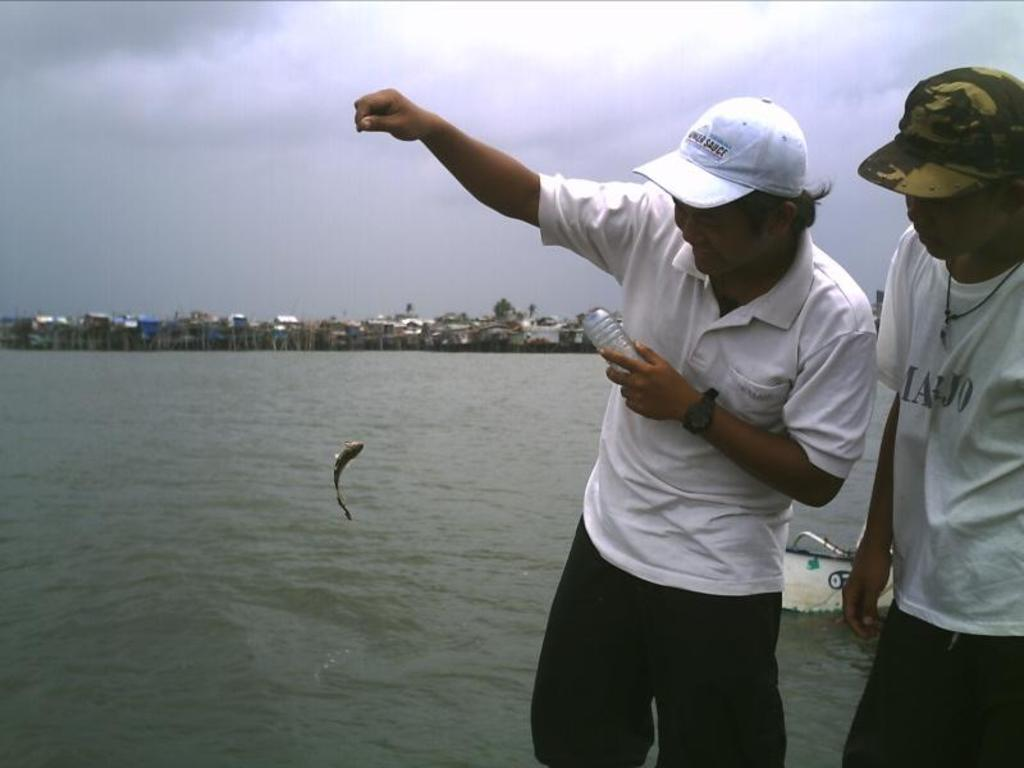Hat: (850, 61, 1022, 202), (628, 91, 803, 209)
